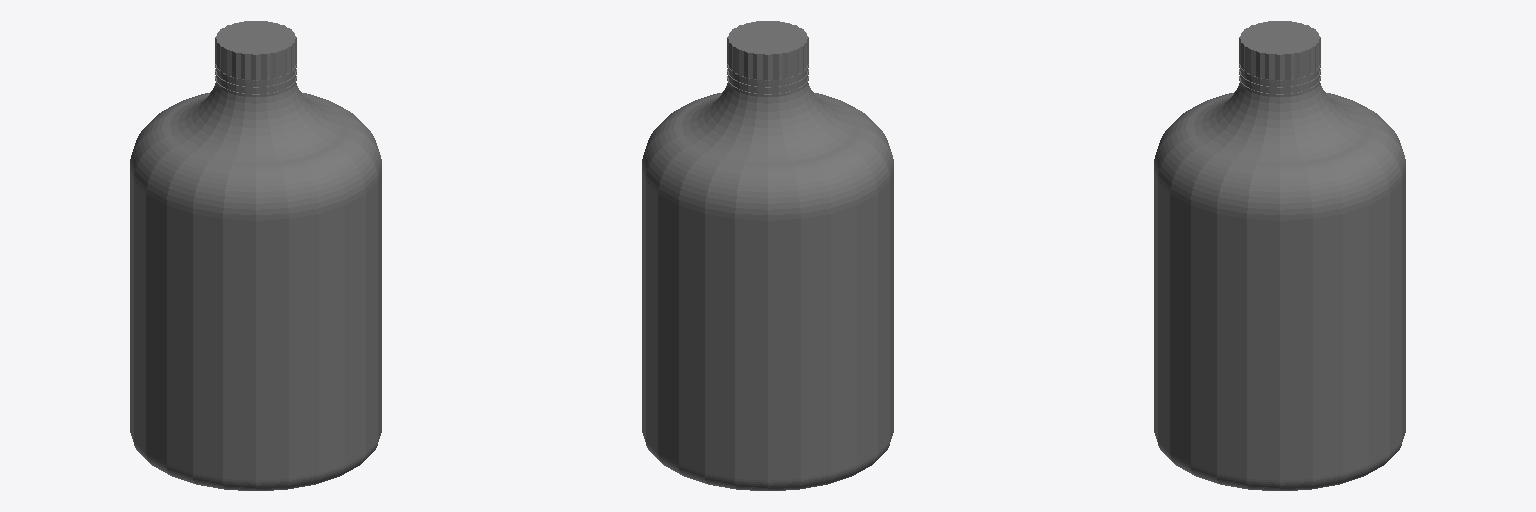
URDF robot description (object):
<?xml version="1.0"?>
<robot name="object">
  <link name="object">
    <visual>
      <origin xyz="0 0 0"/>
      <geometry>
        <mesh
          filename="../../mesh/oakink_virtual/cylinder_bottle_s368.stl" />
      </geometry>
      <material name="mat">
        <color rgba="0.5 0.5 0.5 1"/>
      </material>
    </visual>

    <collision>
      <origin xyz="0 0 0"/>
      <geometry>
        <mesh
          filename="../../mesh/oakink_virtual/cylinder_bottle_s368.stl" />
      </geometry>
    </collision>
  </link>
</robot>

--- Facts derived from the render (not from the file) ---
3 views of the same robot in one strip: view 1: azimuth 30°, elevation 25°; view 2: azimuth 150°, elevation 25°; view 3: azimuth 270°, elevation 25° (orthographic).
Model object with 1 links and 0 joints (none), rooted at object, posed every joint at zero.
Visible links, largest first — view 1: object; view 2: object; view 3: object.
Link boxes in pixels (x1,y1,x2,y2): object: [130, 21, 381, 490]; object: [642, 21, 893, 490]; object: [1154, 21, 1405, 490].
Bounding box of the posed robot: 0.1282 × 0.1282 × 0.2271 m (x, y, z).
1 mesh visuals loaded from 1 distinct referenced files (1 binary STL).